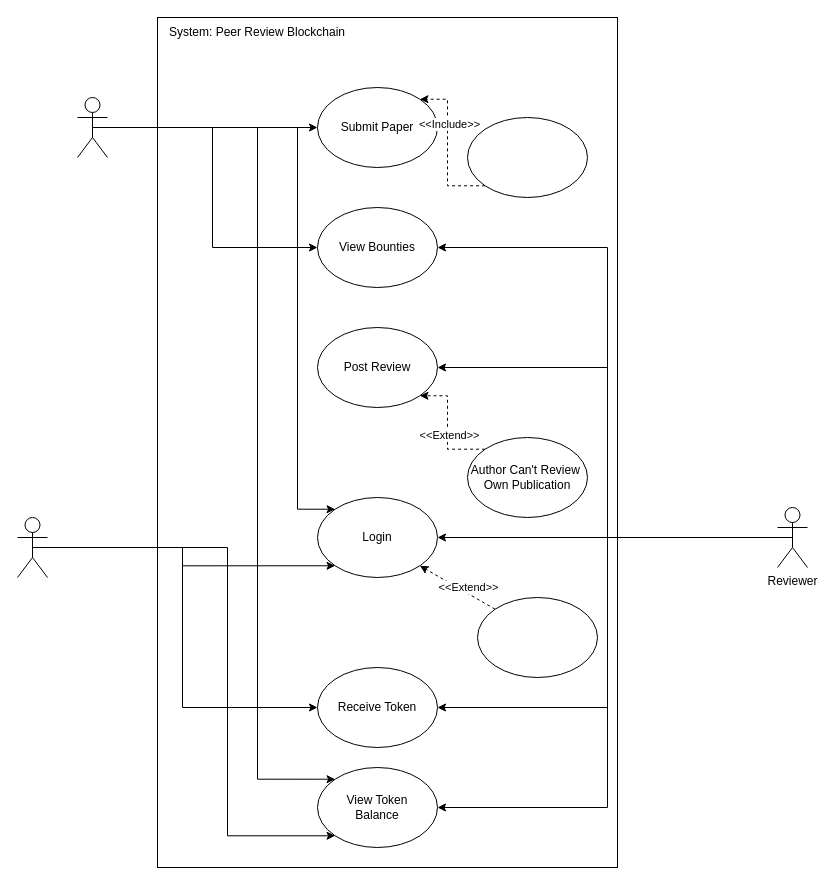
The diagram is 835 pixels wide and 885 high, and some of its shapes have lost their labels. The shapes that lost their labels are listed below. From the top down, each one's centre as x and y in pixels, then its label:
At pixel 92 127: "Author".
At pixel 527 157: "Submission Fee".
At pixel 32 547: "Editor".
At pixel 537 637: "No Wallet".
